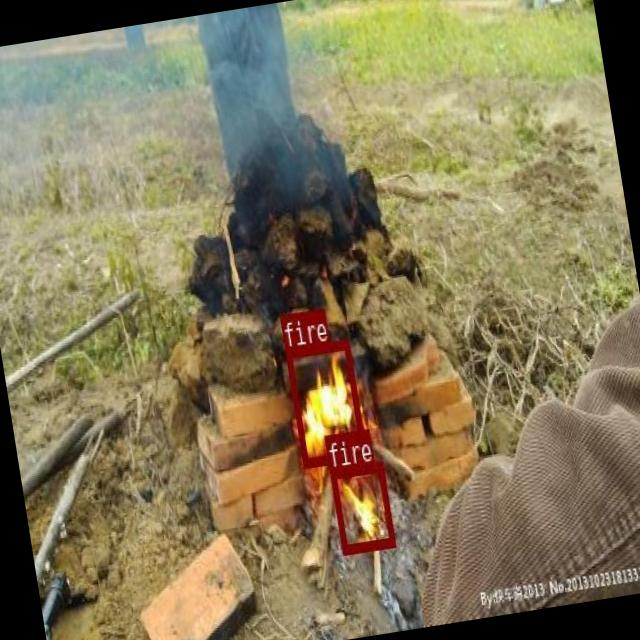fire: (285, 339, 366, 466), (328, 462, 394, 552)
